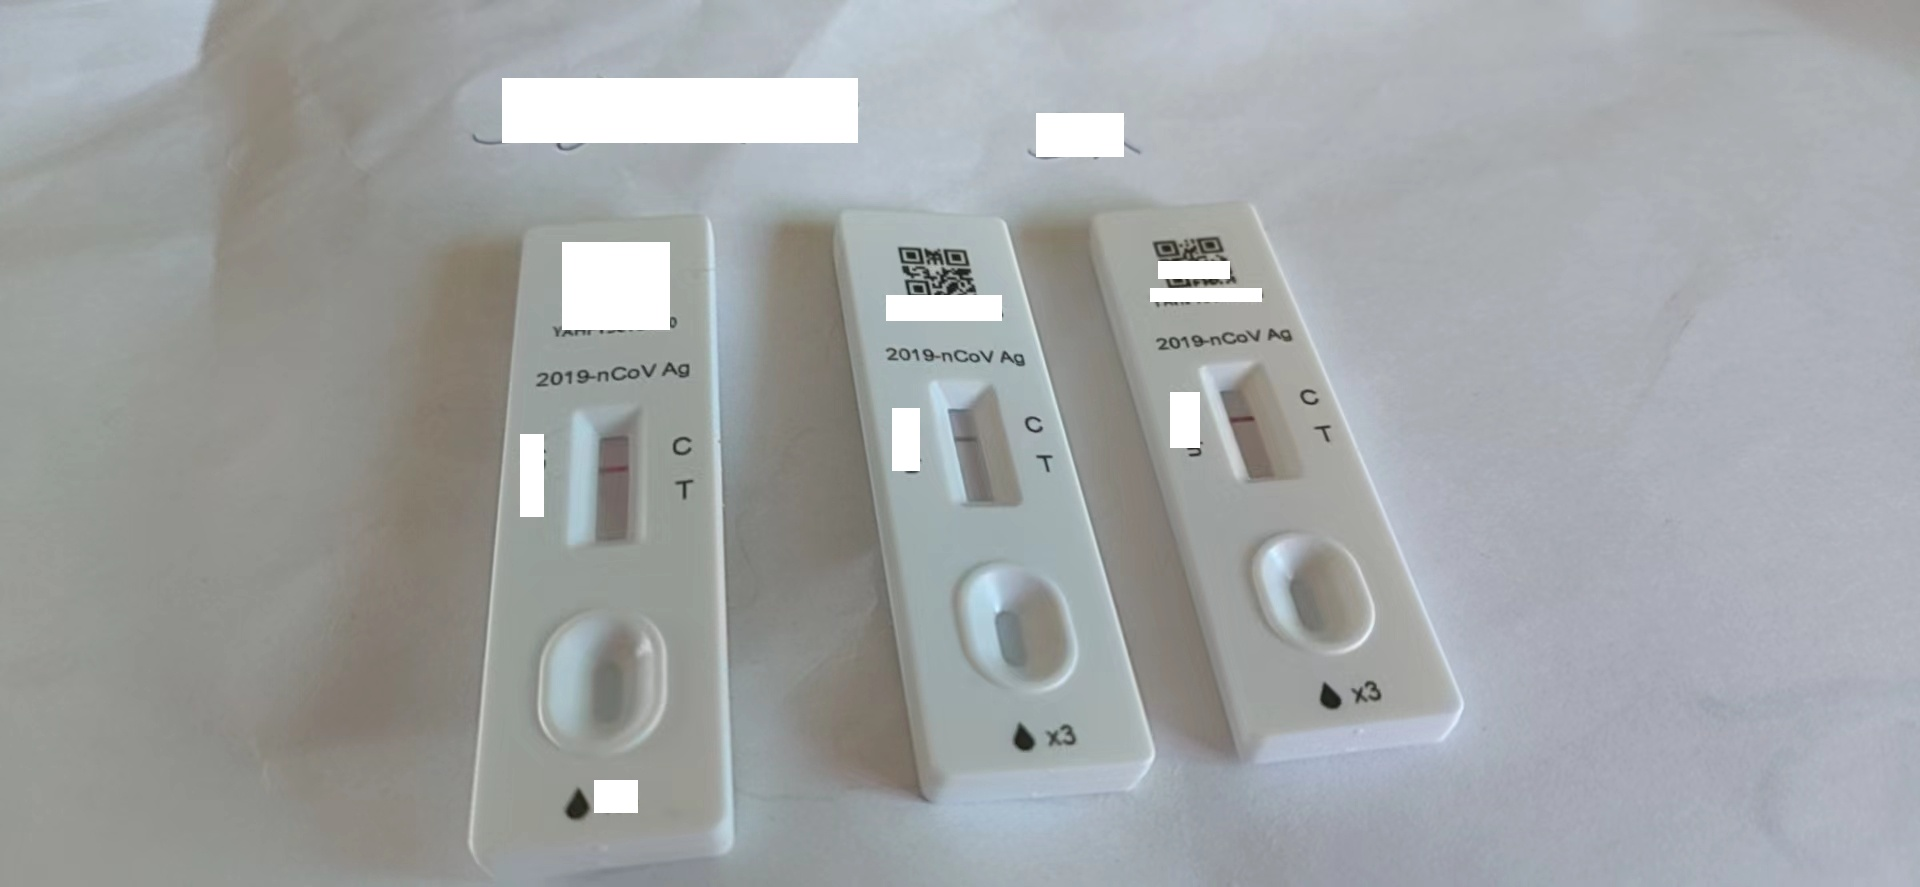negative: (1204, 361, 1291, 488), (571, 403, 639, 551), (937, 382, 1015, 510)
